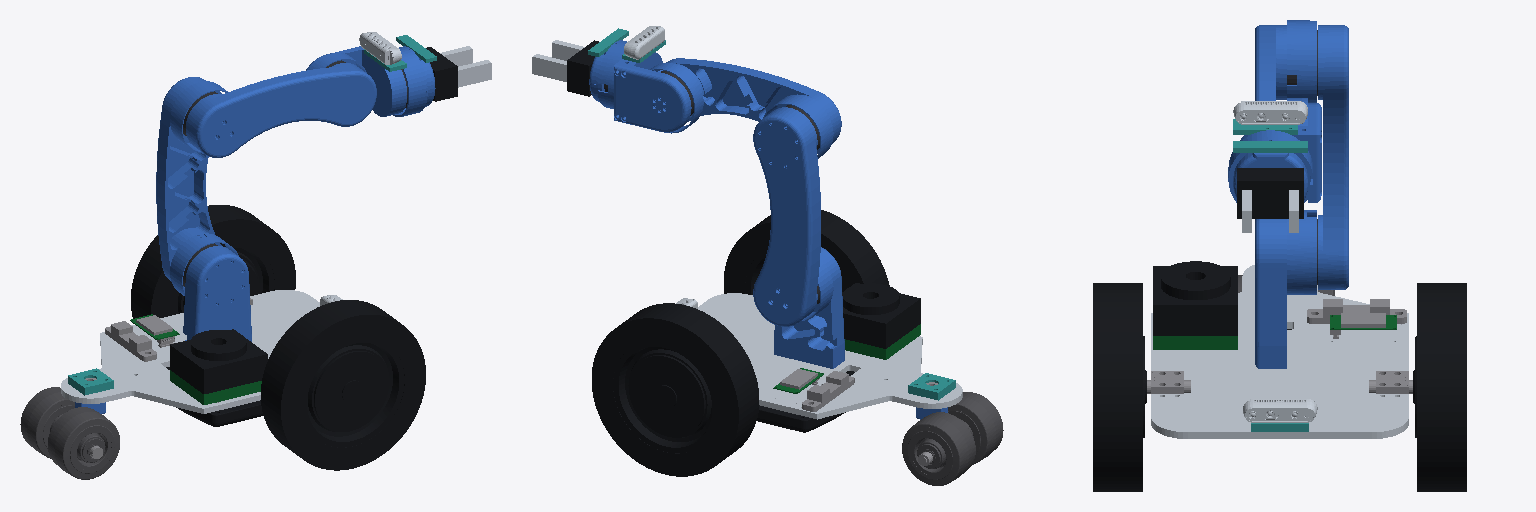
The robot description file, URDF, robot "obot3":
<?xml version="1.0"?>
<!-- obot3, exported from the Fusion model obot3_claude build v32 by tools/urdf_export.py.  Do not edit: regenerate.
     x forward, y left, z up.  All joints 0 = the pose the CAD model is drawn in (upper arm upright, forearm
     and tool pointing forward).  Arm joint angles have the sign of the CAD model (tools/pose.py):
       shoulder_pitch +back / -forward,  elbow_pitch +up,  wrist_pitch +up,  wrist_roll right-handed about x.
     left_wheel is the robot's own left (+y); the CAD model calls that side R.
     Masses marked ASSUMED in tools/urdf_export.py are not weighed (battery, hub motors, tyres, caster wheels,
     gripper allowance).  Cables are not included.  Collision = boxes and cylinders round the big bodies. -->
<robot name="obot3">
  <material name="alu"><color rgba="0.784 0.816 0.855 1"/></material>
  <material name="arm"><color rgba="0.275 0.471 0.784 1"/></material>
  <material name="mnt"><color rgba="0.235 0.627 0.627 1"/></material>
  <material name="blk"><color rgba="0.125 0.133 0.149 1"/></material>
  <material name="pcb"><color rgba="0.098 0.431 0.216 1"/></material>
  <material name="stl"><color rgba="0.588 0.588 0.608 1"/></material>
  <material name="mot"><color rgba="0.235 0.243 0.267 1"/></material>
  <material name="red"><color rgba="0.784 0.157 0.157 1"/></material>
  <material name="rubber"><color rgba="0.345 0.345 0.361 1"/></material>

  <link name="base_footprint"/>
  <joint name="base_footprint_joint" type="fixed">
    <parent link="base_footprint"/><child link="base_link"/>
    <origin xyz="0 0 0.125" rpy="0 0 0"/>
  </joint>

  <link name="base_link">
    <inertial>
      <origin xyz="-0.0862797 -0.00692385 0.00954855" rpy="0 0 0"/>
      <mass value="10.4867"/>
      <inertia ixx="0.156063" ixy="-0.00523133" ixz="0.00339803" iyy="0.121882" iyz="0.00106766" izz="0.233006"/>
    </inertial>
    <visual>
      <origin xyz="0 0 0" rpy="0 0 0"/>
      <geometry><mesh filename="meshes/base_link_alu.stl"/></geometry>
      <material name="alu"/>
    </visual>
    <visual>
      <origin xyz="0 0 0" rpy="0 0 0"/>
      <geometry><mesh filename="meshes/base_link_arm.stl"/></geometry>
      <material name="arm"/>
    </visual>
    <visual>
      <origin xyz="0 0 0" rpy="0 0 0"/>
      <geometry><mesh filename="meshes/base_link_blk.stl"/></geometry>
      <material name="blk"/>
    </visual>
    <visual>
      <origin xyz="0 0 0" rpy="0 0 0"/>
      <geometry><mesh filename="meshes/base_link_mnt.stl"/></geometry>
      <material name="mnt"/>
    </visual>
    <visual>
      <origin xyz="0 0 0" rpy="0 0 0"/>
      <geometry><mesh filename="meshes/base_link_mot.stl"/></geometry>
      <material name="mot"/>
    </visual>
    <visual>
      <origin xyz="0 0 0" rpy="0 0 0"/>
      <geometry><mesh filename="meshes/base_link_pcb.stl"/></geometry>
      <material name="pcb"/>
    </visual>
    <visual>
      <origin xyz="0 0 0" rpy="0 0 0"/>
      <geometry><mesh filename="meshes/base_link_stl.stl"/></geometry>
      <material name="stl"/>
    </visual>
    <collision>   <!-- battery:1 -->
      <origin xyz="-0.124019 -0.09625 -0.0313661" rpy="0 0 0"/>
      <geometry><box size="0.169625 0.1155 0.0366322"/></geometry>
    </collision>
    <collision>   <!-- battery:1 -->
      <origin xyz="-0.124513 0.048125 -0.0316" rpy="0 0 0"/>
      <geometry><box size="0.170173 0.17325 0.0371"/></geometry>
    </collision>
    <collision>   <!-- battery:1 -->
      <origin xyz="-0.120199 0.144375 -0.0288881" rpy="0 0 0"/>
      <geometry><box size="0.161985 0.01925 0.0316761"/></geometry>
    </collision>
    <collision>   <!-- P01_Deck_310x487_x9 -->
      <origin xyz="-0.322116 0 -0.00855" rpy="0 0 0"/>
      <geometry><box size="0.0913687 0.0948774 0.009"/></geometry>
    </collision>
    <collision>   <!-- P01_Deck_310x487_x9 -->
      <origin xyz="-0.261203 0 -0.00855" rpy="0 0 0"/>
      <geometry><box size="0.0304562 0.203656 0.009"/></geometry>
    </collision>
    <collision>   <!-- P01_Deck_310x487_x9 -->
      <origin xyz="-0.0632375 0 -0.00855" rpy="0 0 0"/>
      <geometry><box size="0.365475 0.309 0.009"/></geometry>
    </collision>
    <collision>   <!-- Orin_Heatsink -->
      <origin xyz="-0.161 -0.101 0.03845" rpy="0 0 0"/>
      <geometry><box size="0.11 0.102 0.041"/></geometry>
    </collision>
    <collision>   <!-- P07_Shoulder_Riser_1.5x4 -->
      <origin xyz="-0.11 -0.01105 0.07295" rpy="0 0 0"/>
      <geometry><box size="0.1 0.0381 0.154"/></geometry>
    </collision>
    <collision>   <!-- P07_Shoulder_Riser_1.5x4 -->
      <origin xyz="-0.11 -0.01105 0.15545" rpy="0 0 0"/>
      <geometry><box size="0.0768522 0.0381 0.011"/></geometry>
    </collision>
    <collision>   <!-- P07_Shoulder_Riser_1.5x4 -->
      <origin xyz="-0.11 -0.01105 0.16645" rpy="0 0 0"/>
      <geometry><box size="0.0577389 0.0381 0.011"/></geometry>
    </collision>
    <collision>   <!-- J1_AK60-39_Body -->
      <origin xyz="-0.110048 0.02525 0.12695" rpy="-1.570796 0 0"/>
      <geometry><cylinder radius="0.039548" length="0.0425"/></geometry>
    </collision>
    <collision>   <!-- Orin_Carrier -->
      <origin xyz="-0.161 -0.101 0.00895" rpy="0 0 0"/>
      <geometry><box size="0.11 0.102 0.018"/></geometry>
    </collision>
    <collision>   <!-- Orin_Fan -->
      <origin xyz="-0.161 -0.101 0.065275" rpy="0 0 0"/>
      <geometry><cylinder radius="0.042" length="0.01265"/></geometry>
    </collision>
    <collision>   <!-- shunt:1 -->
      <origin xyz="-0.2 0.092 0.00695" rpy="0 0 0"/>
      <geometry><box size="0.025 0.12 0.022"/></geometry>
    </collision>
    <collision>   <!-- Intel_RealSense_Depth_Camera_D435:1 -->
      <origin xyz="0.107475 5.68666e-05 0.0184499" rpy="0 0 0"/>
      <geometry><box size="0.02505 0.0897899 0.0249999"/></geometry>
    </collision>
    <collision>   <!-- P05_Bearing_Cap_2x2x0.5in -->
      <origin xyz="-0.3228 0 0.0023" rpy="0 0 0"/>
      <geometry><box size="0.0508 0.0508 0.0127"/></geometry>
    </collision>
    <collision>   <!-- battery monitor:1 -->
      <origin xyz="-0.155 0.1 0.00735" rpy="0 0 0"/>
      <geometry><box size="0.04 0.08 0.0218"/></geometry>
    </collision>
    <collision>   <!-- wheel plate:1 -->
      <origin xyz="0 -0.135 0.00625" rpy="0 0 0"/>
      <geometry><box size="0.045 0.04 0.009"/></geometry>
    </collision>
    <collision>   <!-- wheel plate:2 -->
      <origin xyz="0 0.135 0.00625" rpy="0 0 0"/>
      <geometry><box size="0.045 0.04 0.009"/></geometry>
    </collision>
  </link>

  <link name="left_wheel">
    <inertial>
      <origin xyz="2.11962e-06 -0.00049825 -6.86158e-08" rpy="0 0 0"/>
      <mass value="2.64676"/>
      <inertia ixx="0.00929666" ixy="9.47993e-10" ixz="3.61564e-11" iyy="0.0171599" iyz="3.71986e-09" izz="0.00929666"/>
    </inertial>
    <visual>
      <origin xyz="0 0 0" rpy="0 0 0"/>
      <geometry><mesh filename="meshes/left_wheel_blk.stl"/></geometry>
      <material name="blk"/>
    </visual>
    <visual>
      <origin xyz="0 0 0" rpy="0 0 0"/>
      <geometry><mesh filename="meshes/left_wheel_mnt.stl"/></geometry>
      <material name="mnt"/>
    </visual>
    <visual>
      <origin xyz="0 0 0" rpy="0 0 0"/>
      <geometry><mesh filename="meshes/left_wheel_stl.stl"/></geometry>
      <material name="stl"/>
    </visual>
    <collision>   <!-- Drive_Tyre_250x60_R -->
      <origin xyz="-4.94085e-05 -9.31323e-10 7.45058e-09" rpy="-1.570796 0 0"/>
      <geometry><cylinder radius="0.125049" length="0.06"/></geometry>
    </collision>
    <collision>   <!-- wheel (1):1 -->
      <origin xyz="4.86374e-05 -0.00227499 0" rpy="-1.570796 0 0"/>
      <geometry><cylinder radius="0.0885486" length="0.0635"/></geometry>
    </collision>
  </link>
  <joint name="left_wheel_joint" type="continuous">
    <parent link="base_link"/><child link="left_wheel"/>
    <origin xyz="0 0.19378 0" rpy="0 0 0"/>
    <axis xyz="0 1 0"/>
  </joint>

  <link name="right_wheel">
    <inertial>
      <origin xyz="-2.11948e-06 0.000498249 -6.8614e-08" rpy="0 0 0"/>
      <mass value="2.64676"/>
      <inertia ixx="0.00929666" ixy="9.88526e-10" ixz="-2.04758e-11" iyy="0.0171599" iyz="-3.69393e-09" izz="0.00929666"/>
    </inertial>
    <visual>
      <origin xyz="0 0 0" rpy="0 0 0"/>
      <geometry><mesh filename="meshes/right_wheel_blk.stl"/></geometry>
      <material name="blk"/>
    </visual>
    <visual>
      <origin xyz="0 0 0" rpy="0 0 0"/>
      <geometry><mesh filename="meshes/right_wheel_mnt.stl"/></geometry>
      <material name="mnt"/>
    </visual>
    <visual>
      <origin xyz="0 0 0" rpy="0 0 0"/>
      <geometry><mesh filename="meshes/right_wheel_stl.stl"/></geometry>
      <material name="stl"/>
    </visual>
    <collision>   <!-- Drive_Tyre_250x60_L -->
      <origin xyz="-4.94085e-05 9.31323e-10 7.45058e-09" rpy="-1.570796 0 0"/>
      <geometry><cylinder radius="0.125049" length="0.06"/></geometry>
    </collision>
    <collision>   <!-- wheel:1 -->
      <origin xyz="-4.86374e-05 0.00227499 0" rpy="-1.570796 0 0"/>
      <geometry><cylinder radius="0.0885486" length="0.0635"/></geometry>
    </collision>
  </link>
  <joint name="right_wheel_joint" type="continuous">
    <parent link="base_link"/><child link="right_wheel"/>
    <origin xyz="0 -0.19378 0" rpy="0 0 0"/>
    <axis xyz="0 1 0"/>
  </joint>

  <link name="caster_fork">
    <inertial>
      <origin xyz="-0.023753 0.00235915 -0.0466717" rpy="0 0 0"/>
      <mass value="0.386072"/>
      <inertia ixx="0.000868811" ixy="1.02438e-05" ixz="-0.000124268" iyy="0.000320108" iyz="1.32324e-05" izz="0.000781265"/>
    </inertial>
    <visual>
      <origin xyz="0 0 0" rpy="0 0 0"/>
      <geometry><mesh filename="meshes/caster_fork_arm.stl"/></geometry>
      <material name="arm"/>
    </visual>
    <visual>
      <origin xyz="0 0 0" rpy="0 0 0"/>
      <geometry><mesh filename="meshes/caster_fork_stl.stl"/></geometry>
      <material name="stl"/>
    </visual>
    <collision>   <!-- P06_Caster_Blade_0.75in -->
      <origin xyz="-0.0144816 0 -0.0365784" rpy="0 0 0"/>
      <geometry><box size="0.0729632 0.01905 0.0811567"/></geometry>
    </collision>
    <collision>   <!-- Caster_Axle_Bolt_0.5in_x6.5in -->
      <origin xyz="-0.035 0.00299999 -0.0612" rpy="-1.570796 0 0"/>
      <geometry><cylinder radius="0.00950001" length="0.16985"/></geometry>
    </collision>
  </link>
  <joint name="caster_swivel_joint" type="continuous">
    <parent link="base_link"/><child link="caster_fork"/>
    <origin xyz="-0.3228 0 -0.01305" rpy="0 0 0"/>
    <axis xyz="0 0 1"/>
  </joint>

  <link name="caster_wheels">
    <inertial>
      <origin xyz="-6.11949e-06 4.07861e-11 1.32152e-06" rpy="0 0 0"/>
      <mass value="1.06"/>
      <inertia ixx="0.00262912" ixy="5.34065e-09" ixz="-8.49038e-11" iyy="0.00133806" iyz="0" izz="0.00262898"/>
    </inertial>
    <visual>
      <origin xyz="0 0 0" rpy="0 0 0"/>
      <geometry><mesh filename="meshes/caster_wheels_rubber.stl"/></geometry>
      <material name="rubber"/>
    </visual>
    <collision>   <!-- 2829T85_Water-Resistant Rubber Wheel:1 -->
      <origin xyz="4.8168e-05 -0.040475 -1.86265e-09" rpy="-1.570796 0 0"/>
      <geometry><cylinder radius="0.0508481" length="0.0619125"/></geometry>
    </collision>
    <collision>   <!-- 2829T85_Water-Resistant Rubber Wheel:2 -->
      <origin xyz="4.8168e-05 0.040475 -1.86265e-09" rpy="-1.570796 0 0"/>
      <geometry><cylinder radius="0.0508481" length="0.0619125"/></geometry>
    </collision>
  </link>
  <joint name="caster_wheel_joint" type="continuous">
    <parent link="caster_fork"/><child link="caster_wheels"/>
    <origin xyz="-0.035 0 -0.0612" rpy="0 0 0"/>
    <axis xyz="0 1 0"/>
  </joint>

  <link name="upper_arm_link">
    <inertial>
      <origin xyz="-0.00350089 0.0276349 0.146024" rpy="0 0 0"/>
      <mass value="2.0255"/>
      <inertia ixx="0.0275777" ixy="0.000111821" ixz="-0.000166023" iyy="0.0278829" iyz="0.0021491" izz="0.00210317"/>
    </inertial>
    <visual>
      <origin xyz="0 0 0" rpy="0 0 0"/>
      <geometry><mesh filename="meshes/upper_arm_link_arm.stl"/></geometry>
      <material name="arm"/>
    </visual>
    <visual>
      <origin xyz="0 0 0" rpy="0 0 0"/>
      <geometry><mesh filename="meshes/upper_arm_link_blk.stl"/></geometry>
      <material name="blk"/>
    </visual>
    <visual>
      <origin xyz="0 0 0" rpy="0 0 0"/>
      <geometry><mesh filename="meshes/upper_arm_link_mot.stl"/></geometry>
      <material name="mot"/>
    </visual>
    <visual>
      <origin xyz="0 0 0" rpy="0 0 0"/>
      <geometry><mesh filename="meshes/upper_arm_link_stl.stl"/></geometry>
      <material name="stl"/>
    </visual>
    <collision>   <!-- P08_UpperArm_250cc_1.5x4 -->
      <origin xyz="-0.00364363 0.03755 0.0081163" rpy="0 0 0"/>
      <geometry><box size="0.0972873 0.0381 0.106233"/></geometry>
    </collision>
    <collision>   <!-- P08_UpperArm_250cc_1.5x4 -->
      <origin xyz="-0.0119953 0.03755 0.135595" rpy="0 0 0"/>
      <geometry><box size="0.0858342 0.0381 0.148726"/></geometry>
    </collision>
    <collision>   <!-- P08_UpperArm_250cc_1.5x4 -->
      <origin xyz="-0.0025297 0.03755 0.252451" rpy="0 0 0"/>
      <geometry><box size="0.0949693 0.0381 0.0849861"/></geometry>
    </collision>
    <collision>   <!-- J2_AK60-39_Body -->
      <origin xyz="-4.81103e-05 0.00125 0.25" rpy="-1.570796 0 0"/>
      <geometry><cylinder radius="0.039548" length="0.0425"/></geometry>
    </collision>
    <collision>   <!-- P20_Loop_Ring_J1_D4in -->
      <origin xyz="3.98494e-05 -9.31323e-10 -1.20476e-05" rpy="-1.570796 0 0"/>
      <geometry><cylinder radius="0.0508416" length="0.0364"/></geometry>
    </collision>
  </link>
  <joint name="shoulder_pitch_joint" type="revolute">
    <parent link="base_link"/><child link="upper_arm_link"/>
    <origin xyz="-0.11 0.0265 0.12695" rpy="0 0 0"/>
    <axis xyz="0 -1 0"/>
    <limit lower="-1.8326" upper="0.785398" effort="72" velocity="10.26"/>   <!-- J1: -105 .. 45 deg -->
  </joint>

  <link name="forearm_link">
    <inertial>
      <origin xyz="0.108951 -0.0318206 0.00329289" rpy="0 0 0"/>
      <mass value="1.54879"/>
      <inertia ixx="0.00147932" ixy="-0.00105975" ixz="4.06059e-06" iyy="0.0175777" iyz="7.5806e-05" izz="0.0171435"/>
    </inertial>
    <visual>
      <origin xyz="0 0 0" rpy="0 0 0"/>
      <geometry><mesh filename="meshes/forearm_link_arm.stl"/></geometry>
      <material name="arm"/>
    </visual>
    <visual>
      <origin xyz="0 0 0" rpy="0 0 0"/>
      <geometry><mesh filename="meshes/forearm_link_blk.stl"/></geometry>
      <material name="blk"/>
    </visual>
    <visual>
      <origin xyz="0 0 0" rpy="0 0 0"/>
      <geometry><mesh filename="meshes/forearm_link_mot.stl"/></geometry>
      <material name="mot"/>
    </visual>
    <visual>
      <origin xyz="0 0 0" rpy="0 0 0"/>
      <geometry><mesh filename="meshes/forearm_link_stl.stl"/></geometry>
      <material name="stl"/>
    </visual>
    <collision>   <!-- P09_Forearm_220cc_1.5x4 -->
      <origin xyz="0.00343506 -0.03755 0.00353387" rpy="0 0 0"/>
      <geometry><box size="0.0968666 0.0381 0.0970641"/></geometry>
    </collision>
    <collision>   <!-- P09_Forearm_220cc_1.5x4 -->
      <origin xyz="0.109988 -0.0439 0.0150568" rpy="0 0 0"/>
      <geometry><box size="0.11624 0.0254 0.0797084"/></geometry>
    </collision>
    <collision>   <!-- P09_Forearm_220cc_1.5x4 -->
      <origin xyz="0.216541 -0.03755 0.00353554" rpy="0 0 0"/>
      <geometry><box size="0.0968666 0.0381 0.0970608"/></geometry>
    </collision>
    <collision>   <!-- J3_AK60-6_Body -->
      <origin xyz="0.219952 -0.00475 0" rpy="-1.570796 0 0"/>
      <geometry><cylinder radius="0.039548" length="0.0275"/></geometry>
    </collision>
    <collision>   <!-- P21_Loop_Ring_J2_D4in -->
      <origin xyz="1.86265e-09 -9.31323e-10 0" rpy="-1.570796 0 0"/>
      <geometry><cylinder radius="0.0508" length="0.0364"/></geometry>
    </collision>
  </link>
  <joint name="elbow_pitch_joint" type="revolute">
    <parent link="upper_arm_link"/><child link="forearm_link"/>
    <origin xyz="0 0 0.25" rpy="0 0 0"/>
    <axis xyz="0 -1 0"/>
    <limit lower="-0.139626" upper="3.28122" effort="72" velocity="10.26"/>   <!-- J2: -8 .. 188 deg -->
  </joint>

  <link name="wrist_link">
    <inertial>
      <origin xyz="0.056857 -0.0167246 0.00622417" rpy="0 0 0"/>
      <mass value="1.16626"/>
      <inertia ixx="0.00208643" ixy="0.000735663" ixz="-1.96143e-05" iyy="0.0024912" iyz="0.000148806" izz="0.00257508"/>
    </inertial>
    <visual>
      <origin xyz="0 0 0" rpy="0 0 0"/>
      <geometry><mesh filename="meshes/wrist_link_alu.stl"/></geometry>
      <material name="alu"/>
    </visual>
    <visual>
      <origin xyz="0 0 0" rpy="0 0 0"/>
      <geometry><mesh filename="meshes/wrist_link_arm.stl"/></geometry>
      <material name="arm"/>
    </visual>
    <visual>
      <origin xyz="0 0 0" rpy="0 0 0"/>
      <geometry><mesh filename="meshes/wrist_link_blk.stl"/></geometry>
      <material name="blk"/>
    </visual>
    <visual>
      <origin xyz="0 0 0" rpy="0 0 0"/>
      <geometry><mesh filename="meshes/wrist_link_mnt.stl"/></geometry>
      <material name="mnt"/>
    </visual>
    <visual>
      <origin xyz="0 0 0" rpy="0 0 0"/>
      <geometry><mesh filename="meshes/wrist_link_mot.stl"/></geometry>
      <material name="mot"/>
    </visual>
    <visual>
      <origin xyz="0 0 0" rpy="0 0 0"/>
      <geometry><mesh filename="meshes/wrist_link_stl.stl"/></geometry>
      <material name="stl"/>
    </visual>
    <collision>   <!-- P10A_Wrist_Cheek_16 -->
      <origin xyz="0.0172 0.0155 0" rpy="0 0 0"/>
      <geometry><box size="0.1244 0.016 0.09"/></geometry>
    </collision>
    <collision>   <!-- J4_AK60-6_Body -->
      <origin xyz="0.09315 -0.0374519 0" rpy="0 1.570796 0"/>
      <geometry><cylinder radius="0.039548" length="0.0275"/></geometry>
    </collision>
    <collision>   <!-- P10B_Roll_Housing_D90x1in -->
      <origin xyz="0.0667 -0.0375 2.42703e-06" rpy="0 0 0"/>
      <geometry><box size="0.0254 0.0899999 0.0899951"/></geometry>
    </collision>
    <collision>   <!-- Intel_RealSense_Depth_Camera_D435:2 -->
      <origin xyz="0.059375 -0.0374431 0.0638499" rpy="0 0 0"/>
      <geometry><box size="0.02505 0.0897899 0.0249998"/></geometry>
    </collision>
  </link>
  <joint name="wrist_pitch_joint" type="revolute">
    <parent link="forearm_link"/><child link="wrist_link"/>
    <origin xyz="0.22 0 0" rpy="0 0 0"/>
    <axis xyz="0 -1 0"/>
    <limit lower="-1.71042" upper="1.48353" effort="9" velocity="33.51"/>   <!-- J3: -98 .. 85 deg -->
  </joint>

  <link name="tool_link">
    <inertial>
      <origin xyz="0.0227426 -0.000208084 0.00308841" rpy="0 0 0"/>
      <mass value="0.51022"/>
      <inertia ixx="0.000688913" ixy="-1.60571e-06" ixz="-9.74219e-06" iyy="0.000437226" iyz="-3.21827e-07" izz="0.000382256"/>
    </inertial>
    <visual>
      <origin xyz="0 0 0" rpy="0 0 0"/>
      <geometry><mesh filename="meshes/tool_link_arm.stl"/></geometry>
      <material name="arm"/>
    </visual>
    <visual>
      <origin xyz="0 0 0" rpy="0 0 0"/>
      <geometry><mesh filename="meshes/tool_link_mnt.stl"/></geometry>
      <material name="mnt"/>
    </visual>
    <visual>
      <origin xyz="0 0 0" rpy="0 0 0"/>
      <geometry><mesh filename="meshes/tool_link_stl.stl"/></geometry>
      <material name="stl"/>
    </visual>
    <collision>   <!-- P11_Tool_Cup_D90x1in -->
      <origin xyz="0.0257 -2.97502e-05 0" rpy="0 0 0"/>
      <geometry><box size="0.0254 0.0951905 0.09525"/></geometry>
    </collision>
    <collision>   <!-- P23_Loop_Ring_J4_D4in -->
      <origin xyz="0.00314999 -2.69599e-05 0" rpy="0 1.570796 0"/>
      <geometry><cylinder radius="0.0508269" length="0.0317"/></geometry>
    </collision>
  </link>
  <joint name="wrist_roll_joint" type="revolute">
    <parent link="wrist_link"/><child link="tool_link"/>
    <origin xyz="0.0924 -0.0375 0" rpy="0 0 0"/>
    <axis xyz="1 0 0"/>
    <limit lower="-2.87979" upper="2.87979" effort="9" velocity="33.51"/>   <!-- J4: -165 .. 165 deg -->
  </joint>

  <link name="gripper_link">
    <inertial>
      <origin xyz="0.0297568 0 0" rpy="0 0 0"/>
      <mass value="0.35"/>
      <inertia ixx="0.000268594" ixy="0" ixz="0" iyy="0.000267071" iyz="0" izz="0.000411367"/>
    </inertial>
    <visual>
      <origin xyz="0 0 0" rpy="0 0 0"/>
      <geometry><mesh filename="meshes/gripper_link_alu.stl"/></geometry>
      <material name="alu"/>
    </visual>
    <visual>
      <origin xyz="0 0 0" rpy="0 0 0"/>
      <geometry><mesh filename="meshes/gripper_link_blk.stl"/></geometry>
      <material name="blk"/>
    </visual>
    <collision>   <!-- Gripper_TBD_Palm -->
      <origin xyz="0.019 0 0" rpy="0 0 0"/>
      <geometry><box size="0.038 0.08 0.05"/></geometry>
    </collision>
    <collision>   <!-- Gripper_TBD_Finger_L -->
      <origin xyz="0.069 -0.028 0" rpy="0 0 0"/>
      <geometry><box size="0.062 0.012 0.028"/></geometry>
    </collision>
    <collision>   <!-- Gripper_TBD_Finger_R -->
      <origin xyz="0.069 0.028 0" rpy="0 0 0"/>
      <geometry><box size="0.062 0.012 0.028"/></geometry>
    </collision>
  </link>
  <joint name="gripper_fixed_joint" type="fixed">
    <parent link="tool_link"/><child link="gripper_link"/>
    <origin xyz="0.0384 0 0" rpy="0 0 0"/>
  </joint>

  <link name="flange"/>   <!-- tool mounting face, on the roll axis, x out of the face -->
  <joint name="flange_joint" type="fixed">
    <parent link="tool_link"/><child link="flange"/>
    <origin xyz="0.0384 0 0" rpy="0 0 0"/>
  </joint>

  <link name="tool0"/>   <!-- the same point, z out of the face -->
  <joint name="tool0_joint" type="fixed">
    <parent link="flange"/><child link="tool0"/>
    <origin xyz="0 0 0" rpy="0 1.570796 0"/>
  </joint>

  <link name="base_camera_link"/>   <!-- D435: centre of its front face, x = viewing direction (not the RealSense optical origin) -->
  <joint name="base_camera_link_joint" type="fixed">
    <parent link="base_link"/><child link="base_camera_link"/>
    <origin xyz="0.12 4.5e-05 0.01845" rpy="0 0 0"/>
  </joint>

  <link name="wrist_camera_link"/>   <!-- D435 on the roll housing: centre of its front face, x = viewing direction -->
  <joint name="wrist_camera_link_joint" type="fixed">
    <parent link="wrist_link"/><child link="wrist_camera_link"/>
    <origin xyz="0.0719 -0.037455 0.06385" rpy="0 0 0"/>
  </joint>
</robot>

--- Render facts (derived) ---
The picture shows the robot from 3 angles, left to right: view 1: azimuth 30°, elevation 25°; view 2: azimuth 150°, elevation 25°; view 3: azimuth 270°, elevation 25°; orthographic projection.
Model obot3 with 15 links and 14 joints (4 revolute, 4 continuous, 6 fixed), rooted at base_footprint, posed all joints at 0.
Links seen in each view (by area): view 1: base_link, right_wheel, forearm_link, upper_arm_link, left_wheel, caster_wheels, wrist_link, gripper_link, tool_link; view 2: base_link, left_wheel, upper_arm_link, forearm_link, wrist_link, caster_wheels, right_wheel, gripper_link, tool_link; view 3: base_link, right_wheel, left_wheel, upper_arm_link, forearm_link, wrist_link, gripper_link, tool_link.
Link boxes in pixels (x1=…): base_link: x1=61, y1=243, x2=342, y2=426; right_wheel: x1=261, y1=300, x2=425, y2=470; forearm_link: x1=170, y1=60, x2=376, y2=157; upper_arm_link: x1=156, y1=77, x2=238, y2=295; left_wheel: x1=131, y1=205, x2=295, y2=318; caster_wheels: x1=20, y1=387, x2=119, y2=479; wrist_link: x1=306, y1=32, x2=407, y2=116; gripper_link: x1=426, y1=46, x2=491, y2=101; tool_link: x1=393, y1=35, x2=436, y2=116; base_link: x1=676, y1=247, x2=962, y2=432; left_wheel: x1=592, y1=303, x2=758, y2=476; upper_arm_link: x1=753, y1=105, x2=833, y2=326; forearm_link: x1=655, y1=58, x2=841, y2=158; wrist_link: x1=604, y1=26, x2=703, y2=133; caster_wheels: x1=902, y1=392, x2=1003, y2=485; right_wheel: x1=724, y1=210, x2=889, y2=294; gripper_link: x1=532, y1=40, x2=598, y2=96; tool_link: x1=588, y1=28, x2=628, y2=108; base_link: x1=1147, y1=219, x2=1412, y2=438; right_wheel: x1=1093, y1=283, x2=1146, y2=491; left_wheel: x1=1413, y1=283, x2=1466, y2=491; upper_arm_link: x1=1287, y1=25, x2=1348, y2=294; forearm_link: x1=1255, y1=20, x2=1316, y2=102; wrist_link: x1=1233, y1=98, x2=1321, y2=202; gripper_link: x1=1237, y1=168, x2=1303, y2=232; tool_link: x1=1228, y1=130, x2=1312, y2=202.
Bounding box of the posed robot: 0.7493 × 0.4476 × 0.5783 m (x, y, z).
35 mesh visuals loaded from 35 distinct referenced files (35 binary STL).
